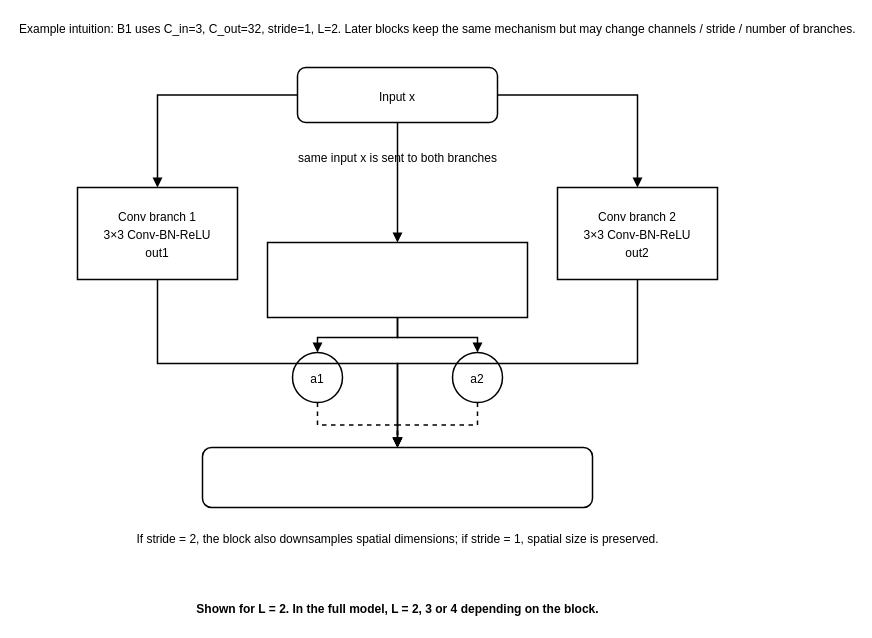
The diagram is 872 pixels wide and 638 high, and some of its shapes have lost their labels. The centre of each missing label's shape, as x and y in pixels:
"a = FC(avg(x)) produces branch weights" belongs at point (397, 279).
"Output = a1 · out1 + a2 · out2" belongs at point (397, 477).
